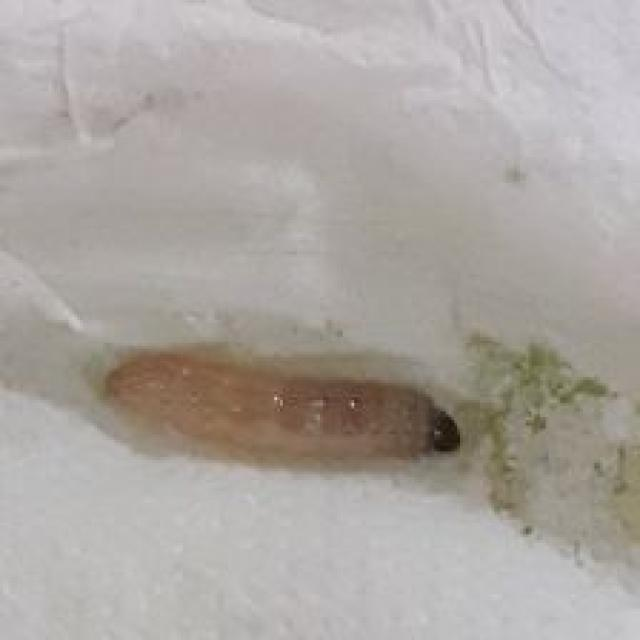white mucus: (108, 327, 489, 493)
